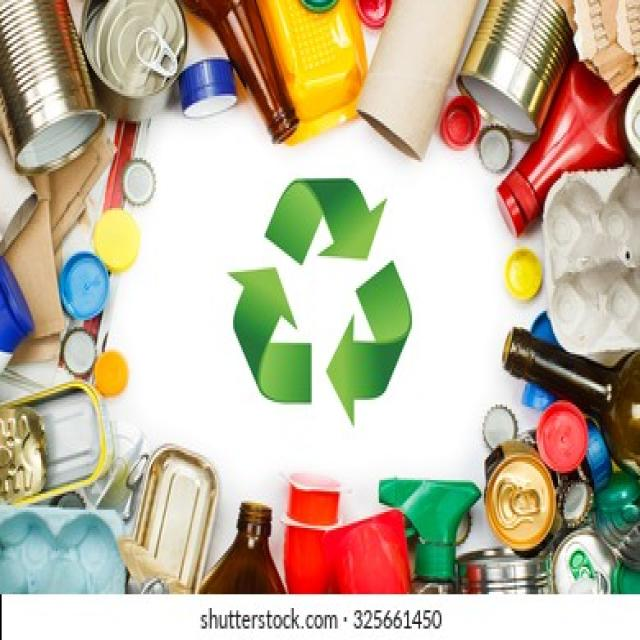cardboard: (554, 194, 634, 345)
metal: (13, 12, 166, 116), (487, 455, 586, 537), (473, 11, 548, 114), (148, 462, 208, 583)
plastic: (294, 492, 461, 580), (71, 226, 128, 386)
